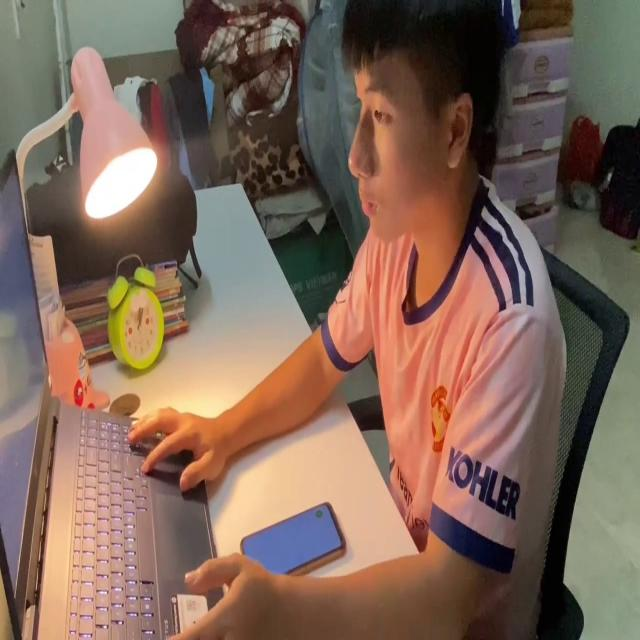laptop: (0, 144, 226, 640)
phone: (238, 498, 350, 583)
student: (128, 0, 568, 640)
